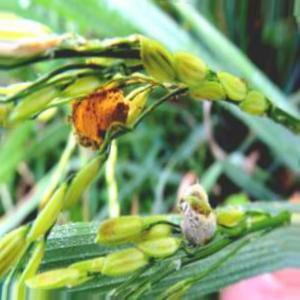Leaf_Scald: (66, 79, 128, 151)
